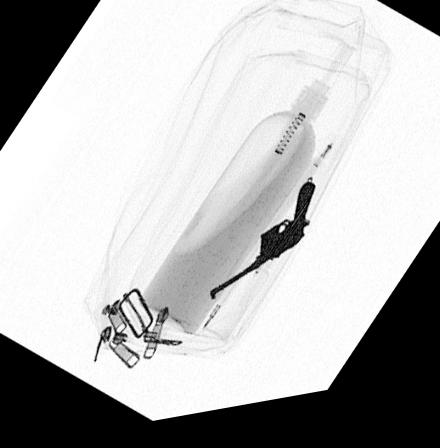Gun: (210, 192, 316, 307)
